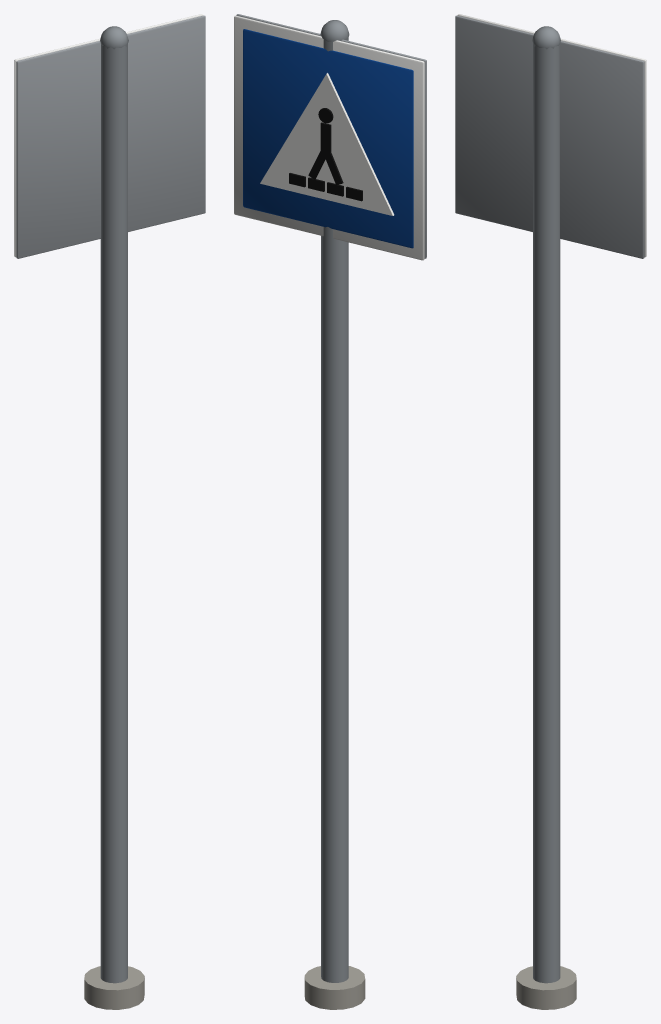
File: Sign_Crossing.fbx
3 renders of one model, left to right at view 1: azimuth 30°, elevation 25°; view 2: azimuth 150°, elevation 25°; view 3: azimuth 330°, elevation 25°, orthographic.
Visible parts, largest first — view 1: Sign_Crossing_Mesh; view 2: Sign_Crossing_Mesh; view 3: Sign_Crossing_Mesh.
Part boxes in pixels (bbox=[...]): Sign_Crossing_Mesh: bbox=[14, 14, 205, 1009]; Sign_Crossing_Mesh: bbox=[234, 14, 426, 1009]; Sign_Crossing_Mesh: bbox=[455, 14, 646, 1009].
Size of the model in its own units: 0.6 by 2.94 by 0.1672.
